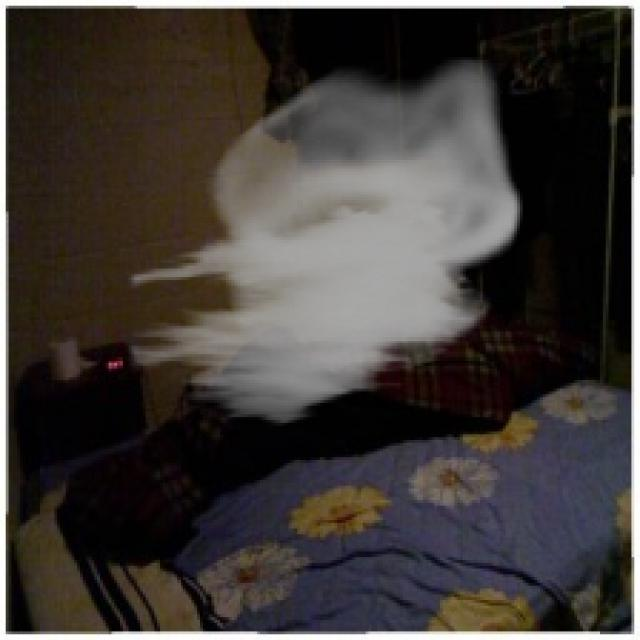smoke: (128, 57, 523, 429)
